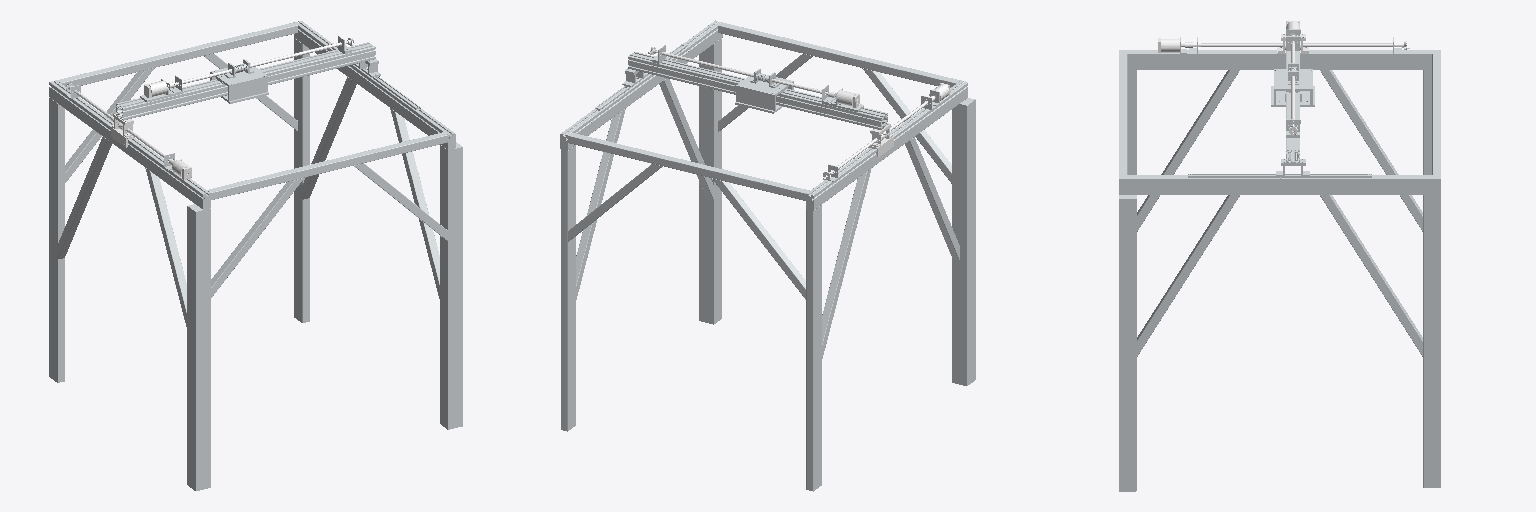
robot.urdf — gantry3:
<?xml version="1.0" encoding="utf-8"?>
<!-- This URDF was automatically created by SolidWorks to URDF Exporter! Originally created by [author] ([email redacted]) 
     Commit Version: 1.5.1-0-g916b5db  Build Version: 1.5.7152.31018
     For more information, please see http://wiki.ros.org/sw_urdf_exporter -->
<robot
  name="gantry3">
    <link name="base_link">
    <inertial>
      <origin
        xyz="1.1373 -1.2167 -0.13611"
        rpy="0 0 0" />
      <mass value="186.7" />
      <inertia
        ixx="40.848"
        ixy="-4.946E-10"
        ixz="2.713E-16"
        iyy="45.385"
        iyz="-2.7617E-15"
        izz="5.3511" />
    </inertial>
    <visual>
      <origin
        xyz="0 0 1.21"
        rpy="0 0 0" />
      <geometry>
        <mesh
          filename="package://gantry3/meshes/base_link.STL" />
      </geometry>
      <material
        name="">
        <color
          rgba="0.89804 0.91765 0.92941 1" />
      </material>
    </visual>
    <collision>
      <origin
        xyz="0 0 1.21"
        rpy="0 0 0" />
      <geometry>
        <mesh
          filename="package://gantry3/meshes/base_link.STL" />
      </geometry>
    </collision>
  </link>

  <link name="world">
  </link>

  <joint name="top_bar2world" type="fixed">
    <origin
      xyz="0 0 0"
      rpy="0 0 0" />
    <parent
      link="world" />
    <child
      link="base_link" />
 
  </joint>


  <link name="topbar">
    <inertial>
      <origin
        xyz="1.963 -0.99517 0.64426"
        rpy="0 0 0" />
      <mass
        value="22.364" />
      <inertia
        ixx="6.0555"
        ixy="9.2337E-18"
        ixz="-0.00046628"
        iyy="0.02232"
        iyz="3.5889E-16"
        izz="6.0426" />
    </inertial>
    <visual>
      <origin
        xyz="0 0 1.21"
        rpy="0 0 0" />
      <geometry>
        <mesh
          filename="package://gantry3/meshes/topbar.STL" />
      </geometry>
      <material
        name="">
        <color
          rgba="0.89804 0.91765 0.92941 1" />
      </material>
    </visual>
    <collision>
      <origin
        xyz="0 0 1.21"
        rpy="0 0 0" />
      <geometry>
        <mesh
          filename="package://gantry3/meshes/topbar.STL" />
      </geometry>
    </collision>
  </link>


  <joint name="f_topbar" type="fixed">
    <origin
      xyz="0 0 0"
      rpy="0 0 0" />
    <parent
      link="base_link" />
    <child
      link="topbar" />
    <axis
      xyz="0 0 0" />
  </joint>


  <link name="bottombar">
    <inertial>
      <origin
        xyz="0.31301 -0.99627 0.64521"
        rpy="0 0 0" />
      <mass
        value="22.642" />
      <inertia
        ixx="6.0557"
        ixy="8.3745E-18"
        ixz="-0.00046628"
        iyy="0.022609"
        iyz="1.1333E-05"
        izz="6.0427" />
    </inertial>
    <visual>
      <origin
        xyz="0 0 1.21"
        rpy="0 0 0" />
      <geometry>
        <mesh
          filename="package://gantry3/meshes/bottombar.STL" />
      </geometry>
      <material
        name="">
        <color
          rgba="0.89804 0.91765 0.92941 1" />
      </material>
    </visual>
    <collision>
      <origin
        xyz="0 0 1.21"
        rpy="0 0 0" />
      <geometry>
        <mesh
          filename="package://gantry3/meshes/bottombar.STL" />
      </geometry>
    </collision>
  </link>


  <joint name="f_bottombar" type="fixed">
    <origin
      xyz="0 0 0"
      rpy="0 0 0" />
    <parent
      link="base_link" />
    <child
      link="bottombar" />
    <axis
      xyz="0 0 0" />
  </joint>


  <link name="motor1">
    <inertial>
      <origin
        xyz="0.31228 -1.6046 0.73599"
        rpy="0 0 0" />
      <mass
        value="0.51016" />
      <inertia
        ixx="0.00067277"
        ixy="1.7812E-20"
        ixz="-7.5893E-08"
        iyy="0.00037685"
        iyz="-9.6171E-08"
        izz="0.00067152" />
    </inertial>
    <visual>
      <origin
        xyz="0 0 1.21"
        rpy="0 0 0" />
      <geometry>
        <mesh
          filename="package://gantry3/meshes/motor1.STL" />
      </geometry>
      <material
        name="">
        <color
          rgba="1 1 1 1" />
      </material>
    </visual>
    <collision>
      <origin
        xyz="0 0 1.21"
        rpy="0 0 0" />
      <geometry>
        <mesh
          filename="package://gantry3/meshes/motor1.STL" />
      </geometry>
    </collision>
  </link>


  <joint name="f_motor1" type="fixed">
    <origin
      xyz="0 0 0"
      rpy="0 0 0" />
    <parent
      link="bottombar" />
    <child
      link="motor1" />
    <axis
      xyz="0 0 0" />
  </joint>


  <link name="rod1">
    <inertial>
      <origin
        xyz="0.029371 -0.0099337 6.5141E-05"
        rpy="0 0 0" />
      <mass
        value="0.02709" />
      <inertia
        ixx="4.0541E-06"
        ixy="3.1885E-11"
        ixz="3.927E-11"
        iyy="4.5437E-05"
        iyz="1.3757E-10"
        izz="4.5437E-05" />
    </inertial>
    <visual>
      <origin
        xyz="0 -0.54 -1.085"
        rpy="0 0 0" />
      <geometry>
        <mesh
          filename="package://gantry3/meshes/rod1.STL" />
      </geometry>
      <material
        name="">
        <color
          rgba="1 1 1 1" />
      </material>
    </visual>
    <collision>
      <origin
        xyz="0 0 0"
        rpy="1.0472 0 0" />
      <geometry>
        <mesh
          filename="package://gantry3/meshes/rod1.STL" />
      </geometry>
    </collision>
  </link>


  <joint name="c_rod1" type="fixed">
    <origin
      xyz="0.32123 -1.5227 0.73154"
      rpy="-2.681 0 1.5708" />
    <parent
      link="motor1" />
    <child
      link="rod1" />
    <axis
      xyz="0 0 0" />
    <limit
      effort="50"
      velocity="100" />
  </joint>


  <link name="slider">
    <inertial>
      <origin
        xyz="0.30906 -0.92117 0.75747"
        rpy="0 0 0" />
      <mass
        value="1.8544" />
      <inertia
        ixx="0.0032532"
        ixy="2.0988E-07"
        ixz="-4.5186E-05"
        iyy="0.00081152"
        iyz="1.6779E-07"
        izz="0.003516" />
    </inertial>
    <visual>
      <origin
        xyz="0 0 1.21"
        rpy="0 0 0" />
      <geometry>
        <mesh
          filename="package://gantry3/meshes/slider.STL" />
      </geometry>
      <material
        name="">
        <color
          rgba="1 1 1 1" />
      </material>
    </visual>
    <collision>
      <origin
        xyz="0 0 1.21"
        rpy="0 0 0" />
      <geometry>
        <mesh
          filename="package://gantry3/meshes/slider.STL" />
      </geometry>
    </collision>
  </link>

  
  <joint name="p_slider" type="prismatic">
    <origin
      xyz="1.5227 0.037393 0.79809"
      rpy="-3.1416 0.46059 1.5708" />
    <parent
      link="rod1" />
    <child
      link="slider" />
    <axis
      xyz="0 1 0" />
    <limit
      lower="-0.4"
      upper="0.4"
      effort="50"
      velocity="0.05" />
  </joint>


  <link name="motion1">
    <inertial>
      <origin
        xyz="1.2278 -0.92126 0.83296"
        rpy="0 0 0" />
      <mass
        value="10.436" />
      <inertia
        ixx="0.014954"
        ixy="3.5435E-07"
        ixz="1.4935E-05"
        iyy="1.893"
        iyz="8.4614E-06"
        izz="1.8953" />
    </inertial>
    <visual>
      <origin
        xyz="0 0 1.21"
        rpy="0 0 0" />
      <geometry>
        <mesh
          filename="package://gantry3/meshes/motion1.STL" />
      </geometry>
      <material
        name="">
        <color
          rgba="0.89804 0.91765 0.92941 1" />
      </material>
    </visual>
    <collision>
      <origin
        xyz="0 0 1.21"
        rpy="0 0 0" />
      <geometry>
        <mesh
          filename="package://gantry3/meshes/motion1.STL" />
      </geometry>
    </collision>
  </link>


  <joint name="f_motion1" type="fixed">
    <origin
      xyz="0 0 0"
      rpy="0 0 0" />
    <parent
      link="slider" />
    <child
      link="motion1" />
    <axis
      xyz="0 0 0" />
  </joint>


  <link name="motor2">
    <inertial>
      <origin
        xyz="0.53509 -0.92118 0.92741"
        rpy="0 0 0" />
      <mass
        value="0.512" />
      <inertia
        ixx="0.00037705"
        ixy="9.6148E-08"
        ixz="-2.118E-09"
        iyy="0.00067285"
        iyz="4.946E-08"
        izz="0.00067164" />
    </inertial>
    <visual>
      <origin
        xyz="0 0 1.21"
        rpy="0 0 0" />
      <geometry>
        <mesh
          filename="package://gantry3/meshes/motor2.STL" />
      </geometry>
      <material
        name="">
        <color
          rgba="1 1 1 1" />
      </material>
    </visual>
    <collision>
      <origin
        xyz="0 0 1.21"
        rpy="0 0 0" />
      <geometry>
        <mesh
          filename="package://gantry3/meshes/motor2.STL" />
      </geometry>
    </collision>
  </link>


  <joint name="f_motor2" type="fixed">
    <origin
      xyz="0 0 0"
      rpy="0 0 0" />
    <parent
      link="motion1" />
    <child
      link="motor2" />
    <axis
      xyz="0 0 0" />
  </joint>


  <link name="rod2">
    <inertial>
      <origin
        xyz="1.1761 -9.1529E-05 1.624E-05"
        rpy="0 0 0" />
      <mass
        value="0.02709" />
      <inertia
        ixx="4.0541E-06"
        ixy="4.8609E-11"
        ixz="-1.4106E-11"
        iyy="4.5437E-05"
        iyz="-3.8569E-11"
        izz="4.5437E-05" />
    </inertial>
    <visual>
      <origin
        xyz="0 1.21 0"
        rpy="0 0 0" />
      <geometry>
        <mesh
          filename="package://gantry3/meshes/rod2.STL" />
      </geometry>
      <material
        name="">
        <color
          rgba="1 1 1 1" />
      </material>
    </visual>
    <collision>
      <origin
        xyz="0 1.21 0"
        rpy="0 0 0" />
      <geometry>
        <mesh
          filename="package://gantry3/meshes/rod2.STL" />
      </geometry>
    </collision>
  </link>


  <joint name="c_rod2" type="fixed">
    <origin
      xyz="1.8228 -0.92118 0.92741"
      rpy="1.5708 0 3.1416" />
    <parent
      link="motor2" />
    <child
      link="rod2" />
    <axis
      xyz="0 0 0" />
    <limit
      effort="50"
      velocity="100" />
  </joint>


  <link name="motion2">
    <inertial>
      <origin
        xyz="1.0911 -0.92118 0.84027"
        rpy="0 0 0" />
      <mass
        value="6.7714" />
      <inertia
        ixx="0.020382"
        ixy="-2.0988E-07"
        ixz="-1.7396E-07"
        iyy="0.037089"
        iyz="-4.352E-11"
        izz="0.054369" />
    </inertial>
    <visual>
      <origin
        xyz="0 0 1.21"
        rpy="0 0 0" />
      <geometry>
        <mesh
          filename="package://gantry3/meshes/motion2.STL" />
      </geometry>
      <material
        name="">
        <color
          rgba="0.89804 0.91765 0.92941 1" />
      </material>
    </visual>
    <collision>
      <origin
        xyz="0 0 1.21"
        rpy="0 0 0" />
      <geometry>
        <mesh
          filename="package://gantry3/meshes/motion2.STL" />
      </geometry>
    </collision>
  </link>


  <joint name="p_motion2" type="prismatic">
    <origin
      xyz="1.8228 -0.92741 0.92118"
      rpy="1.5708 0 3.1416" />
    <parent
      link="rod2" />
    <child
      link="motion2" />
    <axis
      xyz="1 0 0" />
    <limit
      lower="-0.4"
      upper="0.4"
      effort="50"
      velocity="0.05" />
  </joint>
</robot>

--- Facts derived from the render (not from the file) ---
Views: 3 orthographic renders of the robot side by side, from view 1: azimuth 30°, elevation 25°; view 2: azimuth 150°, elevation 25°; view 3: azimuth 270°, elevation 25°.
Model gantry3 with 11 links and 10 joints (2 prismatic, 8 fixed), rooted at world, posed all joints at 0.
Links seen in each view (by area): view 1: base_link, motion1, bottombar, topbar, motion2, rod2; view 2: base_link, motion1, bottombar, topbar, motion2, rod2; view 3: base_link, topbar, bottombar, motion1, motion2, rod1.
Boxes of the visible links, bbox=[...] form: base_link: bbox=[49, 22, 462, 490]; motion1: bbox=[116, 36, 380, 120]; bottombar: bbox=[49, 80, 210, 209]; topbar: bbox=[294, 21, 455, 149]; motion2: bbox=[210, 59, 268, 103]; rod2: bbox=[168, 37, 354, 88]; base_link: bbox=[561, 22, 975, 491]; motion1: bbox=[622, 45, 887, 129]; bottombar: bbox=[806, 80, 967, 210]; topbar: bbox=[560, 20, 722, 150]; motion2: bbox=[735, 69, 793, 113]; rod2: bbox=[648, 47, 835, 97]; base_link: bbox=[1119, 54, 1440, 491]; topbar: bbox=[1119, 174, 1440, 194]; bottombar: bbox=[1119, 37, 1440, 69]; motion1: bbox=[1276, 21, 1309, 178]; motion2: bbox=[1271, 63, 1314, 106]; rod1: bbox=[1185, 41, 1409, 49].
Size in the robot's own frame: 1.8 by 1.8 by 2.17 metres.
10 mesh visuals loaded from 10 distinct referenced files (10 binary STL).